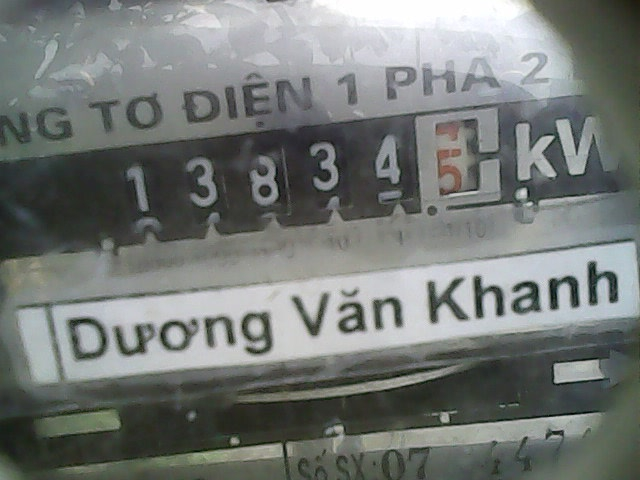phy_plate: (90, 104, 513, 237)
